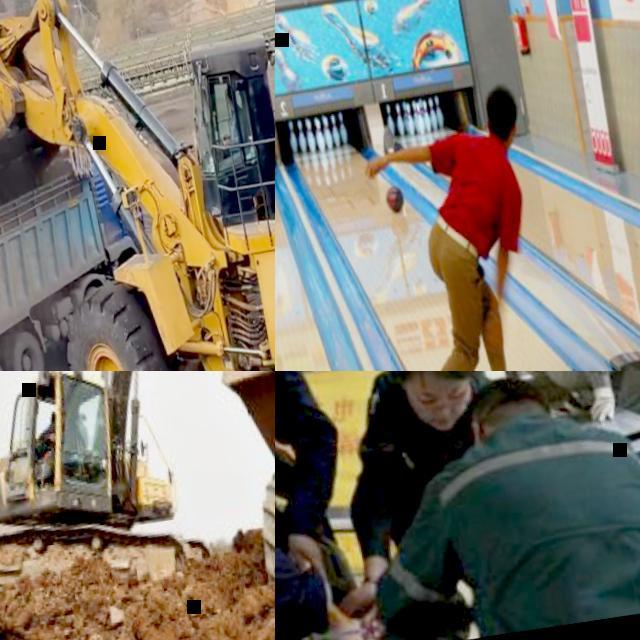Robbery: (391, 377, 640, 640), (357, 73, 544, 371), (338, 357, 478, 573), (271, 358, 361, 640)
